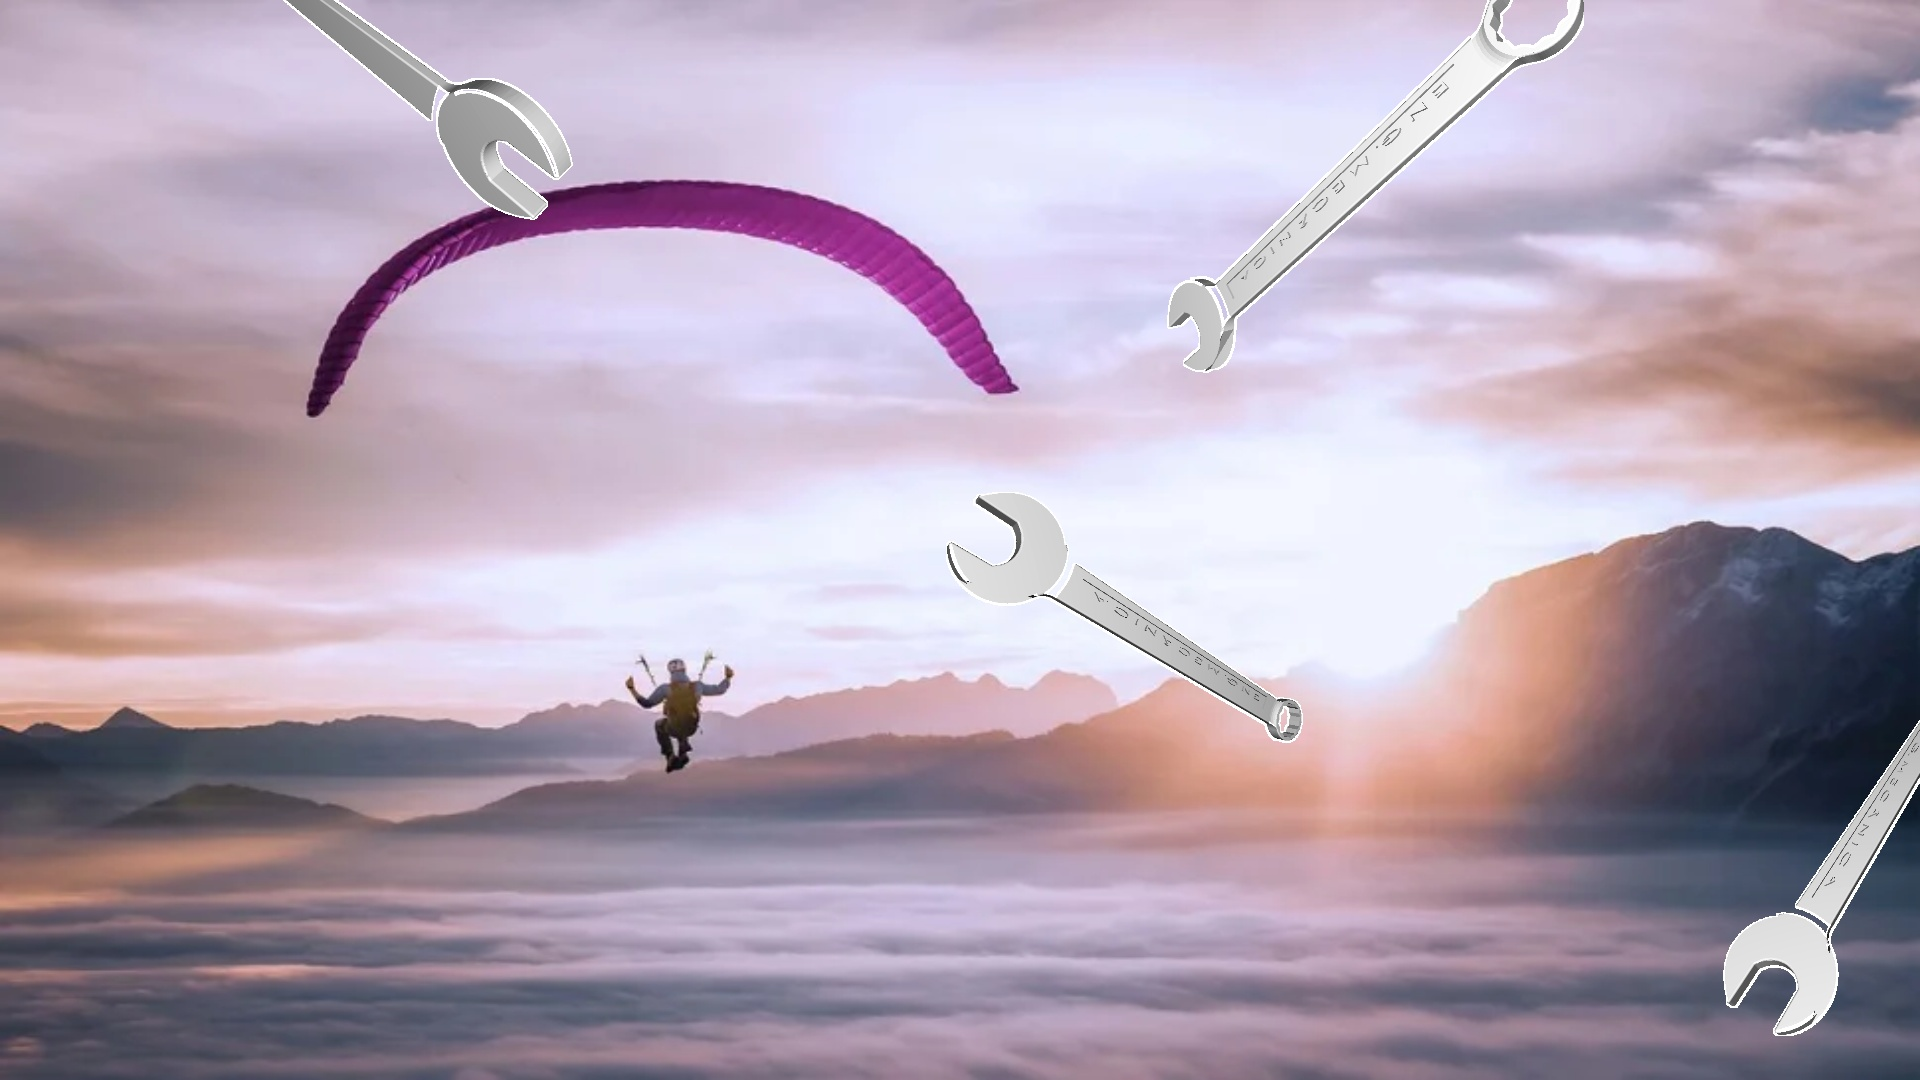Mixed Key: (1167, 0, 1582, 372), (945, 492, 1302, 742), (284, 0, 572, 219), (1724, 720, 1919, 1035)
